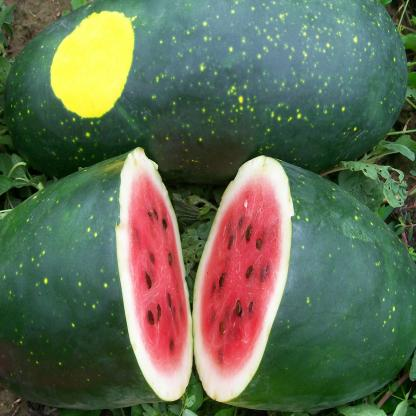--: (0, 2, 416, 416)
